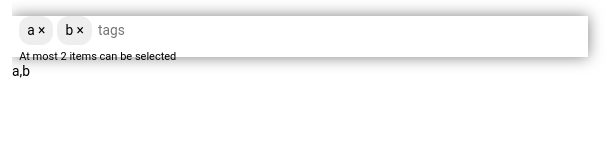
Test case: Combobox › drops the maxSelected notice once an item is removed
Click the text "b ×". click: click(75, 30)
box: [58,16,92,45]
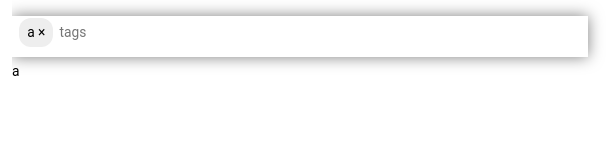
Expected: the text "At most 2 items can be selected" is gone
